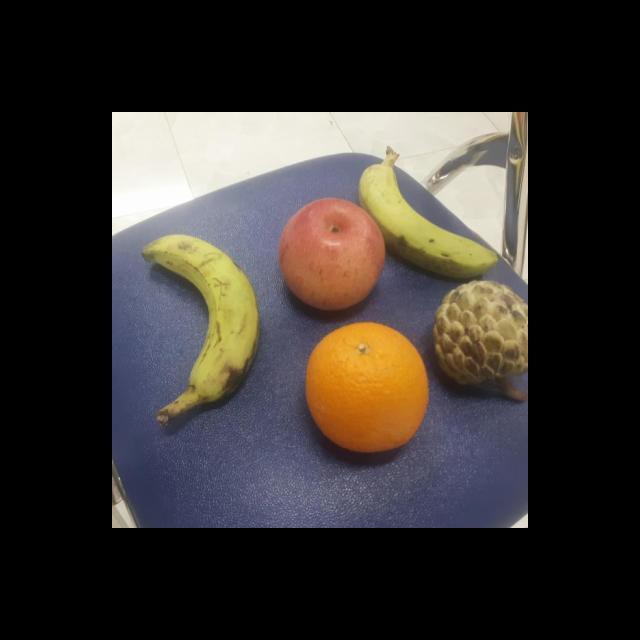Sakya fruit: (426, 279, 528, 387)
apple: (275, 195, 388, 312)
banana: (137, 230, 263, 404), (357, 160, 502, 282)
orange: (306, 318, 430, 455)
